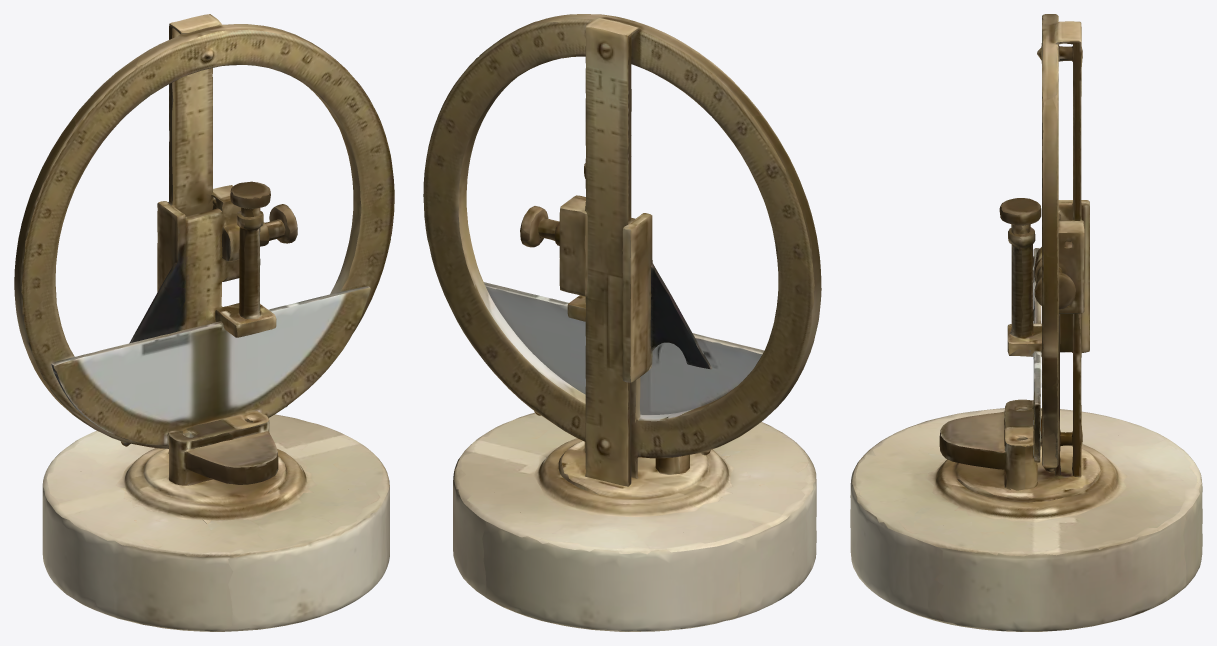
The picture shows the model from 3 angles, left to right: view 1: azimuth 30°, elevation 25°; view 2: azimuth 150°, elevation 25°; view 3: azimuth 270°, elevation 25°; orthographic projection. The views are drawn at different scales.
Visible parts, largest first — view 1: geometry_0; view 2: geometry_0; view 3: geometry_0.
Boxes of the visible parts, x1=… form: geometry_0: x1=14, y1=14, x2=394, y2=631; geometry_0: x1=423, y1=14, x2=821, y2=631; geometry_0: x1=850, y1=14, x2=1202, y2=631.
Size of the model in its own units: 0.2384 by 0.32 by 0.1921.
1 material, 1 textured.
